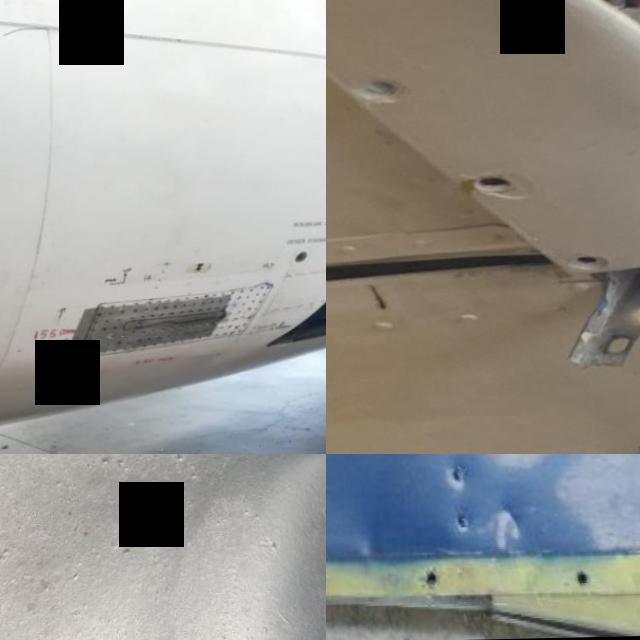Crack: (0, 22, 52, 43)
Dent: (180, 454, 326, 512)
Missing_Fastener: (353, 71, 417, 114), (466, 172, 528, 204), (556, 248, 608, 278)
